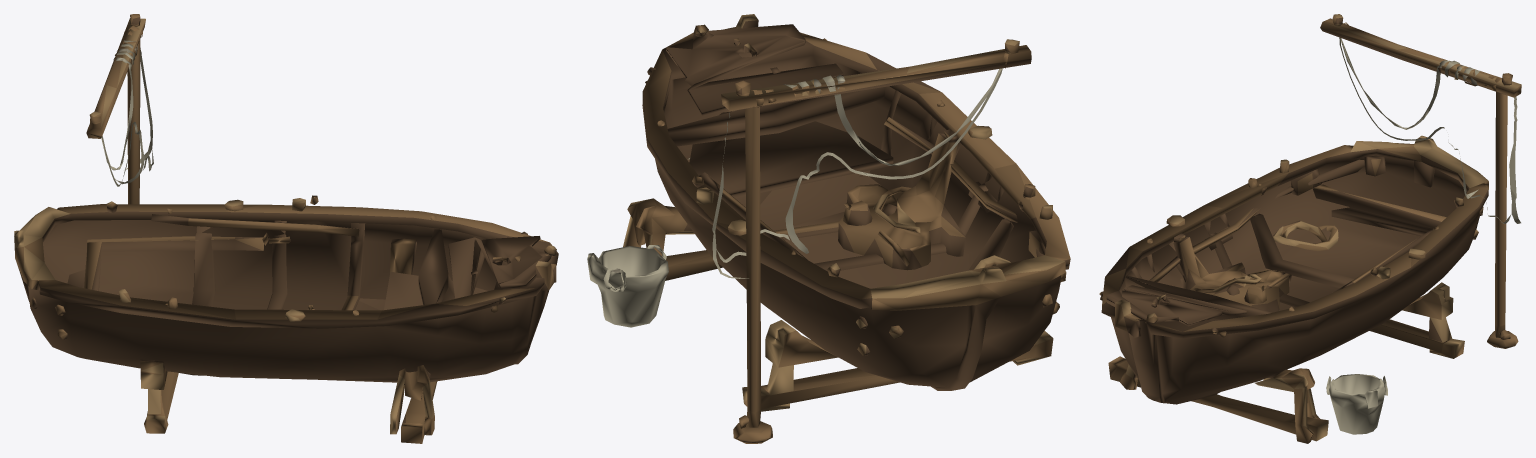
Rendered from skiff_on_blocks_a_lod1_tripo.glb.
The picture shows the model from 3 angles, left to right: view 1: azimuth 30°, elevation 25°; view 2: azimuth 150°, elevation 25°; view 3: azimuth 270°, elevation 25°; orthographic projection. The views are drawn at different scales.
Visible parts, largest first — view 1: Surface.001; view 2: Surface.001; view 3: Surface.001.
Boxes of the visible parts, x1=… form: Surface.001: x1=14, y1=14, x2=558, y2=443; Surface.001: x1=587, y1=14, x2=1070, y2=443; Surface.001: x1=1099, y1=14, x2=1521, y2=443.
Size of the model in its own units: 4.68 by 3.09 by 4.33.
